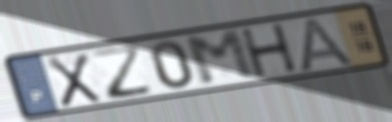0: (148, 37, 197, 92)
A: (296, 15, 358, 75)
H: (237, 21, 301, 80)
M: (181, 27, 261, 89)
X: (43, 51, 104, 110)
Z: (88, 42, 157, 102)
